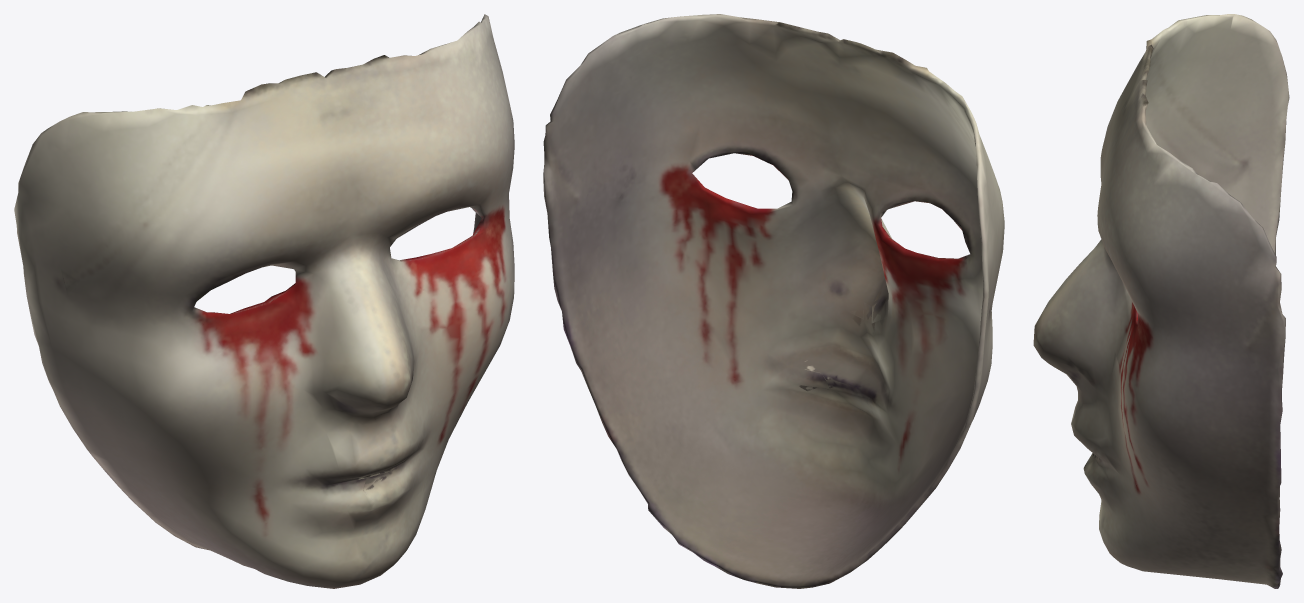
Rendered from creepy_bloddy_mask.gltf.
The picture shows the model from 3 angles, left to right: view 1: azimuth 30°, elevation 25°; view 2: azimuth 150°, elevation 25°; view 3: azimuth 270°, elevation 25°; orthographic projection. The views are drawn at different scales.
Parts seen in each view (by area): view 1: geo1; view 2: geo1; view 3: geo1.
Part boxes in pixels (x1,y1,x2,y2): geo1: [14, 14, 514, 588]; geo1: [543, 14, 1004, 588]; geo1: [1033, 14, 1289, 588].
Size of the model in its own units: 180 by 194 by 91.52.
1 material, 1 textured.
